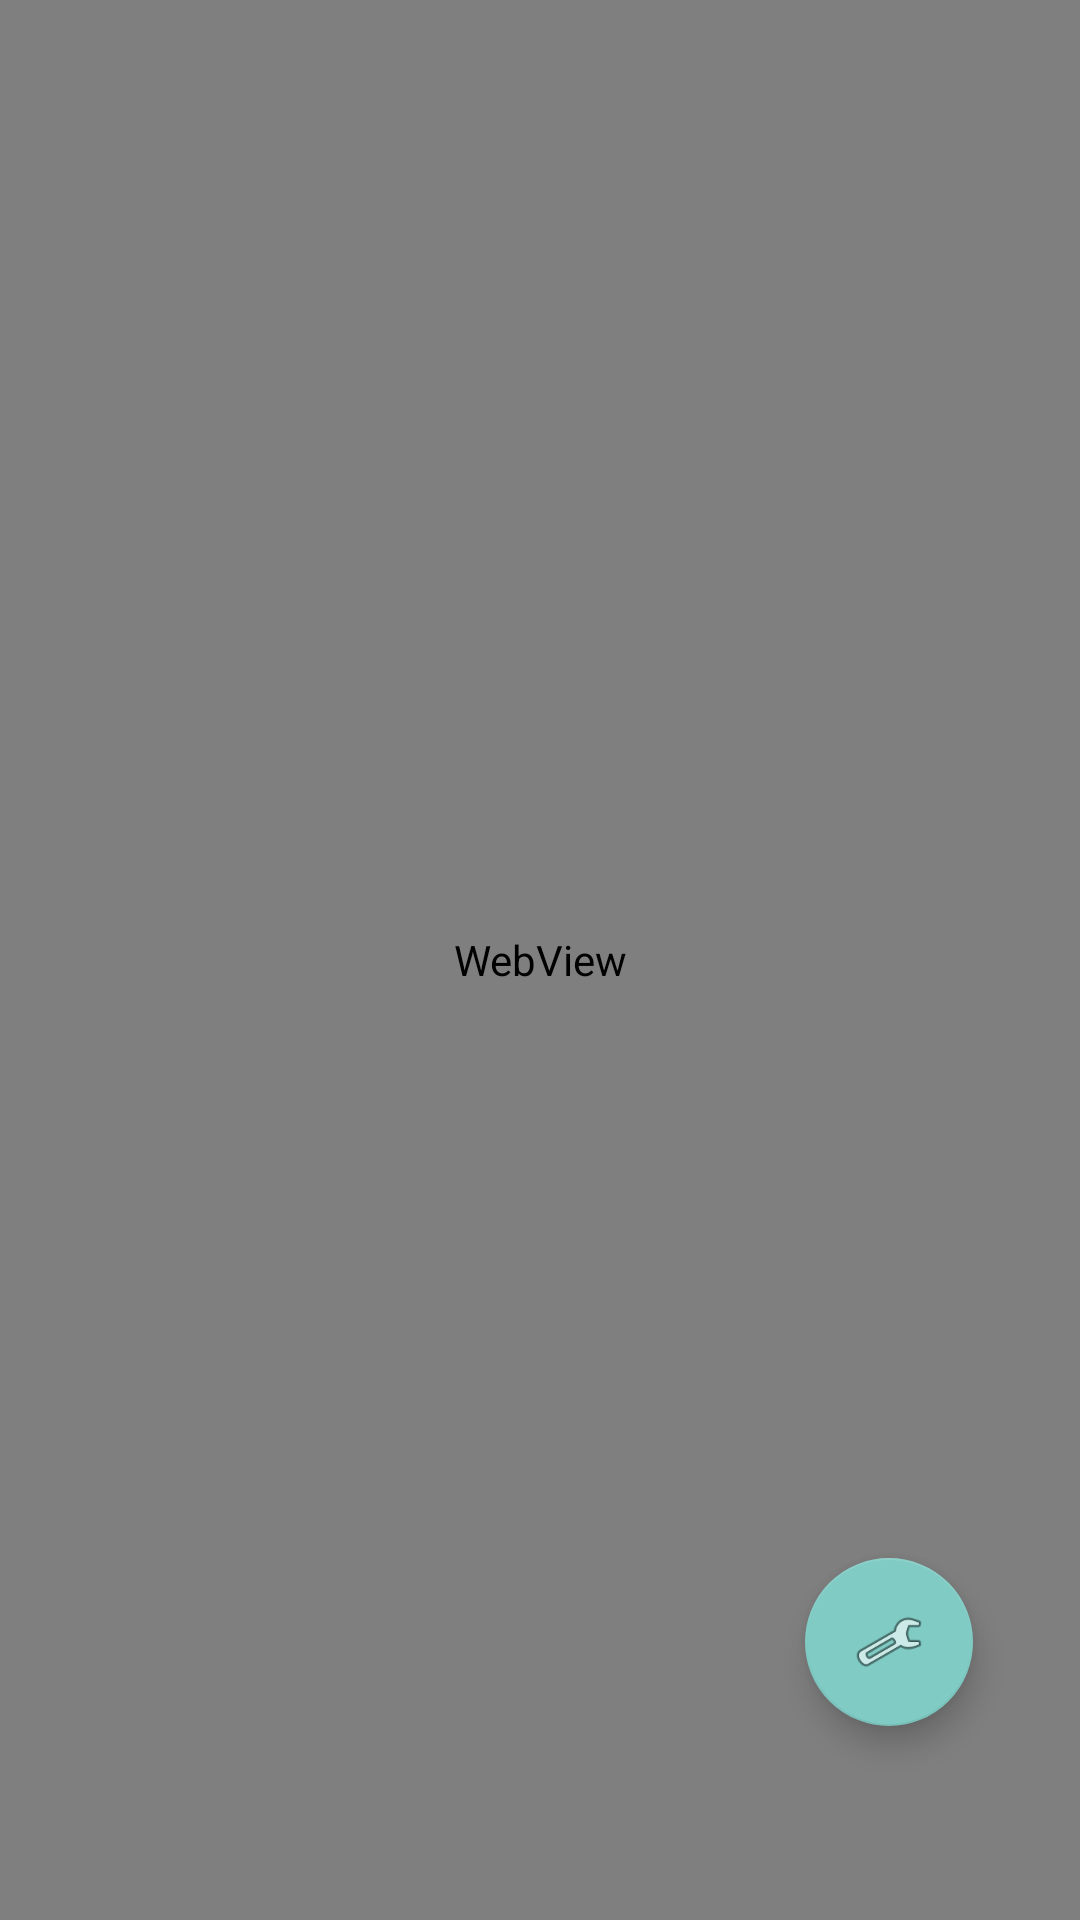

Screen size 1080w x 1920h. Icon name, then its box in pixels as {"x1": x1, "y1": y1, "x2": x2, "y2": y2}:
preferences: {"x1": 805, "y1": 1558, "x2": 973, "y2": 1726}
